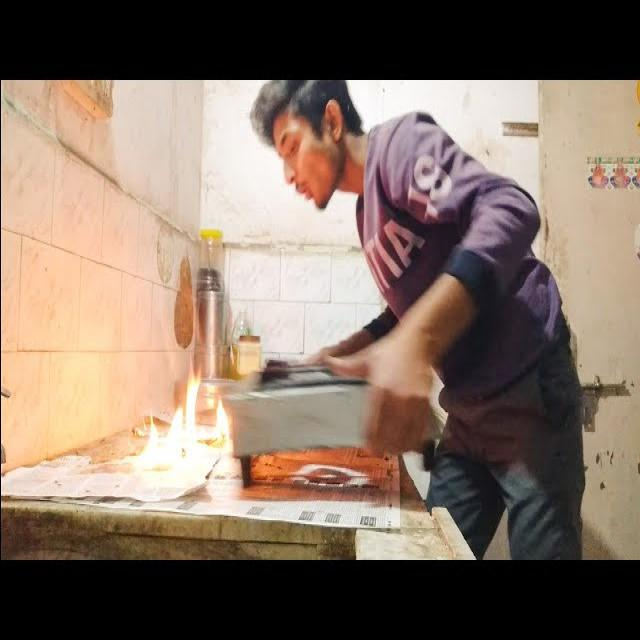fire: (185, 351, 202, 433)
